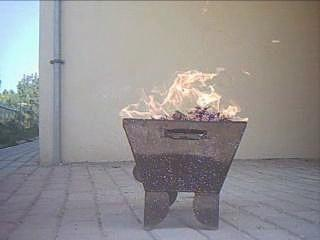fire: (130, 73, 236, 129)
